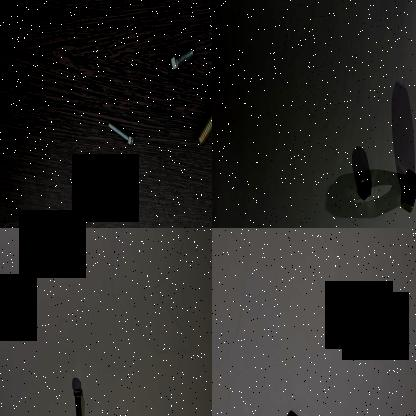Bolts: (190, 85, 212, 151), (167, 41, 202, 82), (107, 118, 136, 150), (68, 384, 86, 416)
NUTS: (396, 159, 416, 222), (354, 160, 372, 212), (277, 394, 305, 416), (235, 402, 266, 416)
